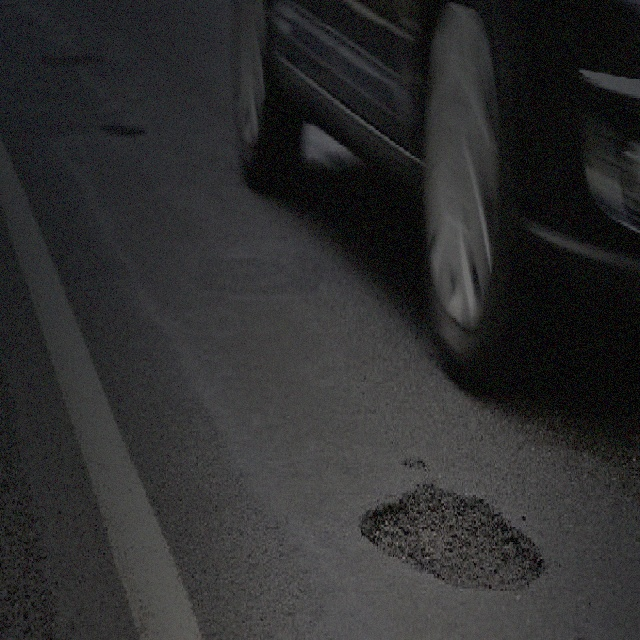pothole: (356, 482, 548, 600)
